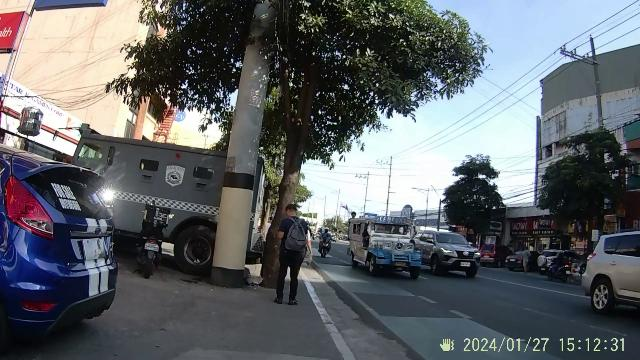car: (348, 210, 424, 276), (414, 224, 482, 278)
utility_post: (212, 112, 255, 288), (557, 28, 605, 140)
